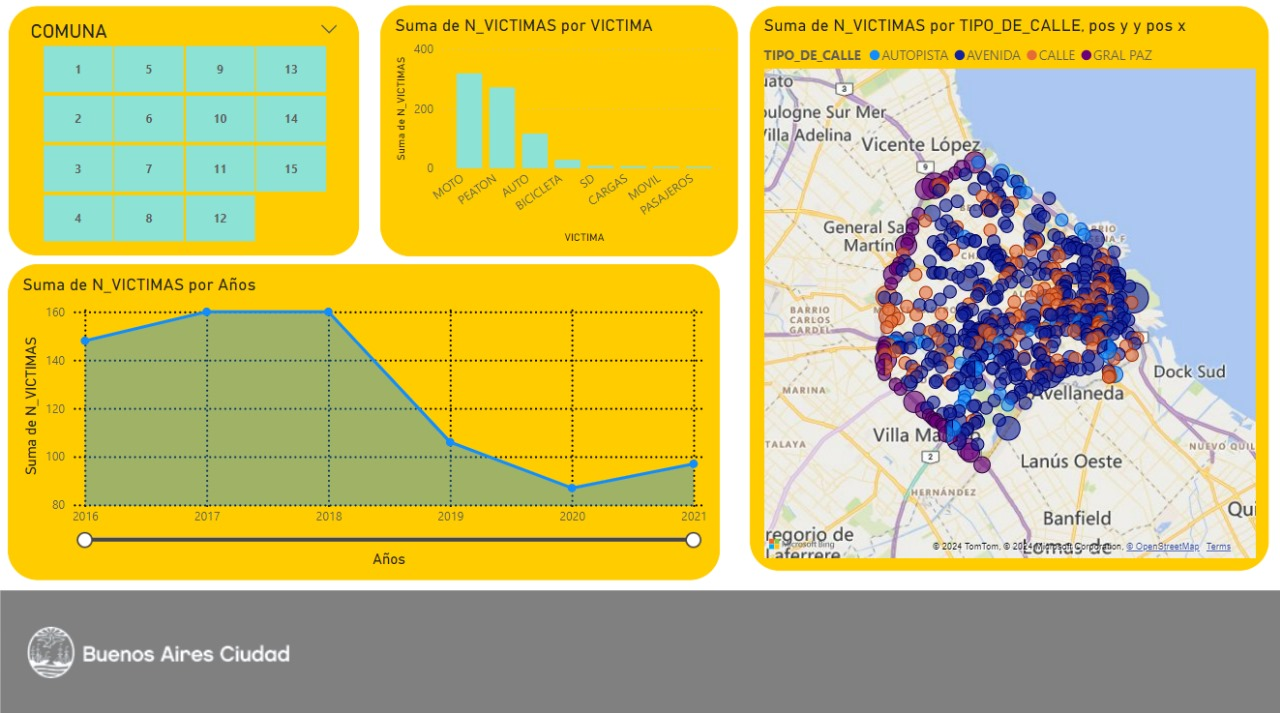

The dashboard page shown, as its layout file describes it:
{"tool":"powerbi","page":{"name":"Análisis de Siniestros","canvas":[1280,720],"ordinal":1},"visuals":[{"type":"map","fields":{"Series":["merged_homicidios_data.TIPO_DE_CALLE"],"Y":["merged_homicidios_data.pos y"],"X":["merged_homicidios_data.pos x"],"Size":["merged_homicidios_data.N_VICTIMAS"]},"box":[749,12,519,565],"z":0},{"type":"shape","box":[2.5,596.2,1277.5,123.8],"z":1000,"group":"g1"},{"type":"slicer","fields":{"Values":["merged_homicidios_data.COMUNA"]},"box":[10,12,351,250],"z":1000},{"type":"image","box":[23.7,608.7,271.2,98.8],"z":2000,"group":"g1"},{"type":"group","id":"g1","title":"Grupo 1","box":[2.5,596.2,1277.5,123.8],"z":2000},{"type":"clusteredColumnChart","fields":{"Category":["merged_homicidios_data.VICTIMA_victimas"],"Y":["merged_homicidios_data.N_VICTIMAS"]},"box":[381,12,357,250],"z":3000},{"type":"lineChart","fields":{"Y":["merged_homicidios_data.N_VICTIMAS"],"Category":["merged_homicidios_data.AAAA"]},"box":[10,270,710,315],"z":4000}]}

Visuals, with their boxes in screenshot pixels (x1, y1, x2, y2), scaled from the page's 1280x720 canvas onto the 1280x713 screenshot:
map - merged_homicidios_data.TIPO_DE_CALLE x merged_homicidios_data.pos y: 749/12/1268/571
shape: 2/590/1279/712
slicer - merged_homicidios_data.COMUNA: 10/12/361/259
image: 24/603/295/701
"Grupo 1" group: 2/590/1279/712
clusteredColumnChart - merged_homicidios_data.VICTIMA_victimas x merged_homicidios_data.N_VICTIMAS: 381/12/738/259
lineChart - merged_homicidios_data.N_VICTIMAS x merged_homicidios_data.AAAA: 10/267/720/579
